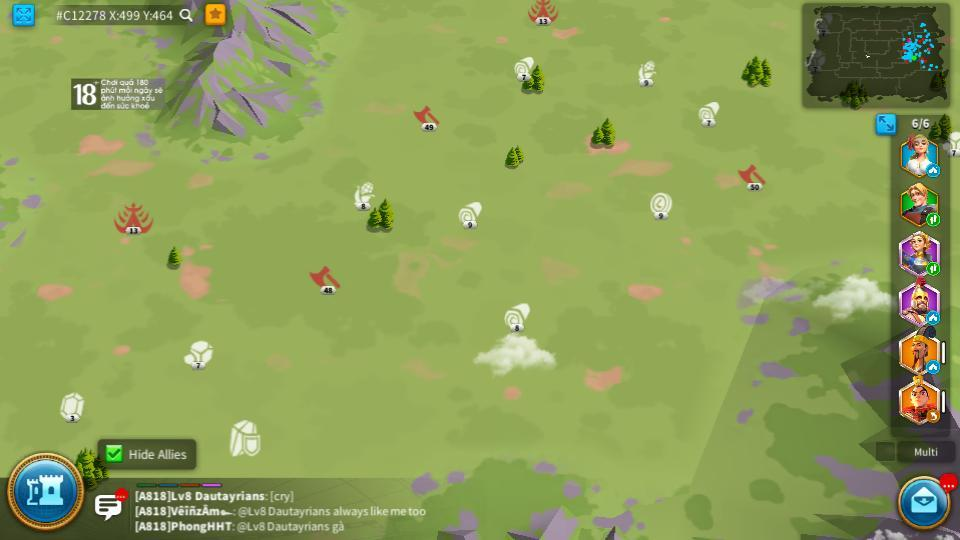gem-z-out: (59, 393, 84, 421)
march_idle: (927, 362, 940, 373), (927, 311, 940, 322), (927, 165, 940, 176)
march_marching: (925, 263, 938, 275), (927, 215, 940, 226)
march_returning: (926, 410, 940, 422)
